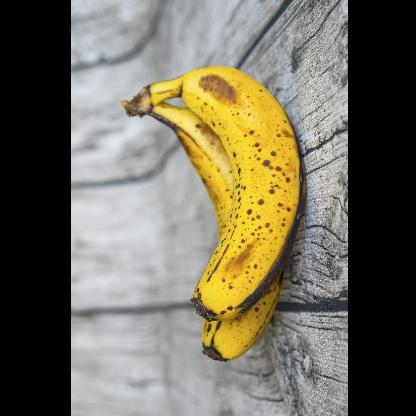banana: (120, 67, 304, 321), (122, 101, 282, 361)
